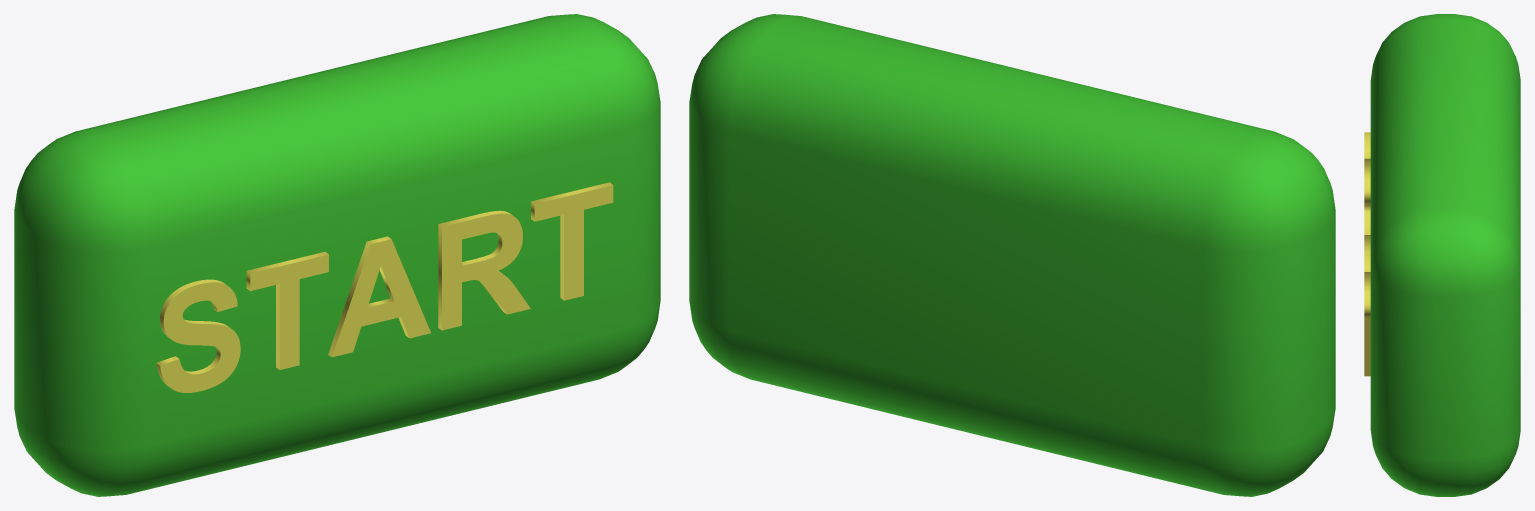
File: start-button.glb
The picture shows the model from 3 angles, left to right: view 1: azimuth 30°, elevation 25°; view 2: azimuth 150°, elevation 25°; view 3: azimuth 270°, elevation 25°; orthographic projection. The views are drawn at different scales.
Visible parts, largest first — view 1: Cube, Text; view 2: Cube; view 3: Cube, Text.
Boxes of the visible parts, bbox=[...] form: Cube: bbox=[14, 14, 660, 496]; Text: bbox=[156, 182, 613, 392]; Cube: bbox=[689, 14, 1335, 496]; Cube: bbox=[1370, 14, 1520, 496]; Text: bbox=[1364, 132, 1370, 376].
Size of the model in its own units: 3.72 by 2 by 1.
